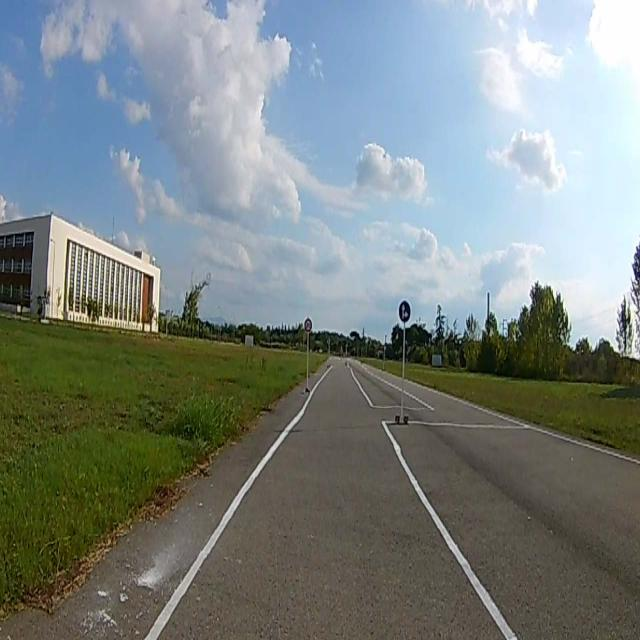ilerisag: (399, 299, 410, 321)
